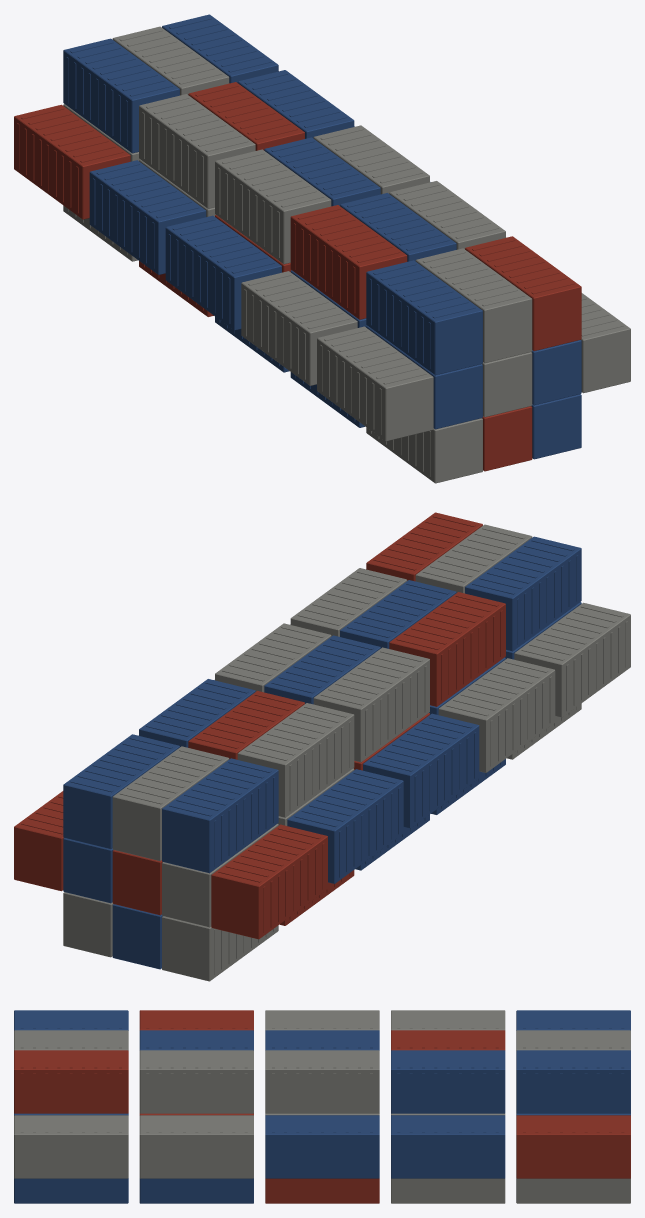
Rendered from cargo4800_load.obj.
3 views of the same model, one above another, from view 1: azimuth 30°, elevation 25°; view 2: azimuth 150°, elevation 25°; view 3: azimuth 270°, elevation 25° (orthographic). The views are drawn at different scales.
Visible parts, largest first — view 1: cargo4800_load; view 2: cargo4800_load; view 3: cargo4800_load.
Part boxes in pixels (x1,y1,x2,y2): cargo4800_load: [14, 14, 630, 483]; cargo4800_load: [14, 512, 630, 981]; cargo4800_load: [14, 1010, 630, 1203].
Bounding box in the file's own units: 12.5 × 7.89 × 32.65.
